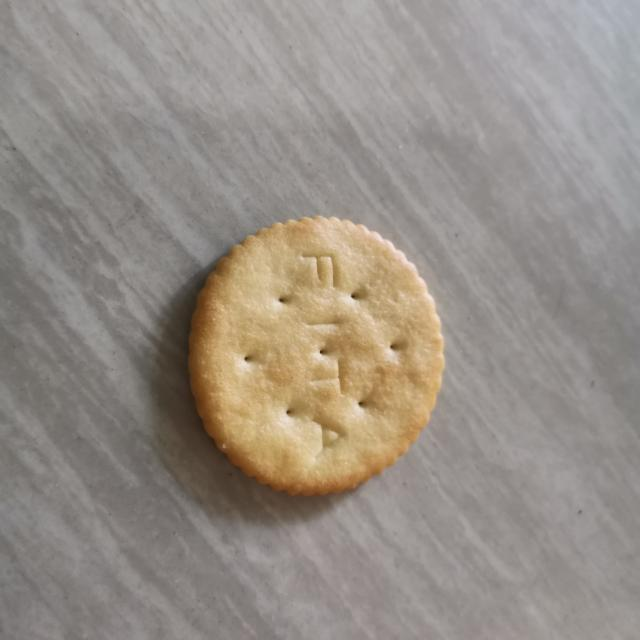Intact: (177, 203, 458, 507)
